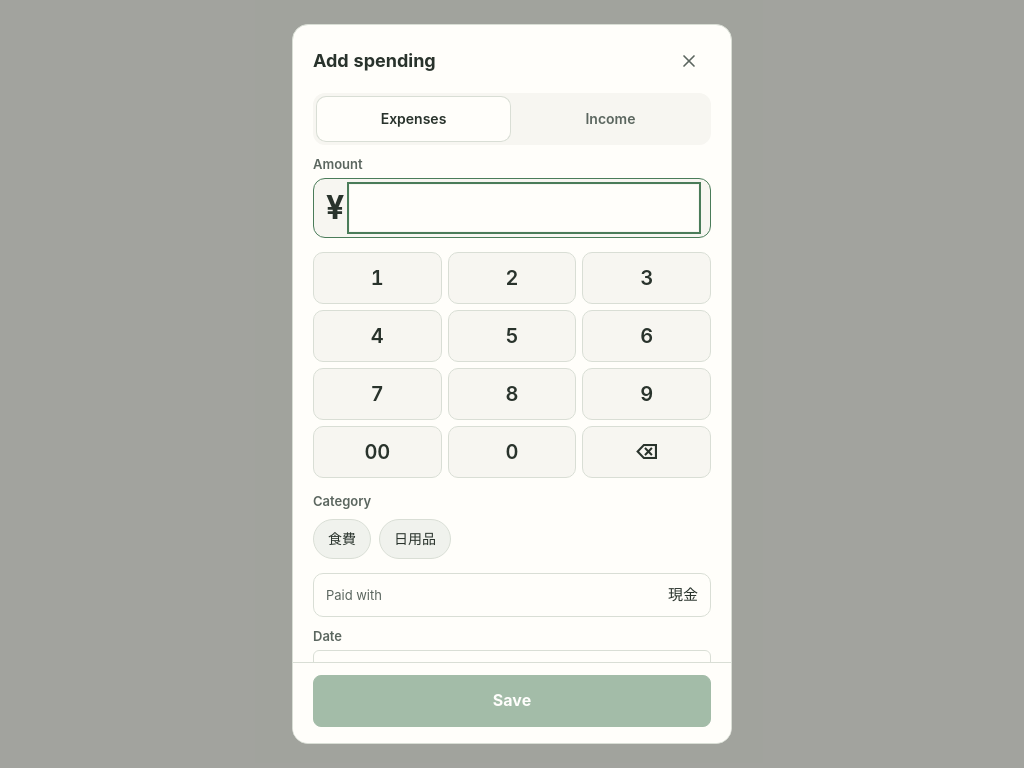
Simple screens in English: every other state starts with a capital › income sheet
Step 1. Click the button "Income" → {"x": 610, "y": 119}, box 514,97 -> 707,141
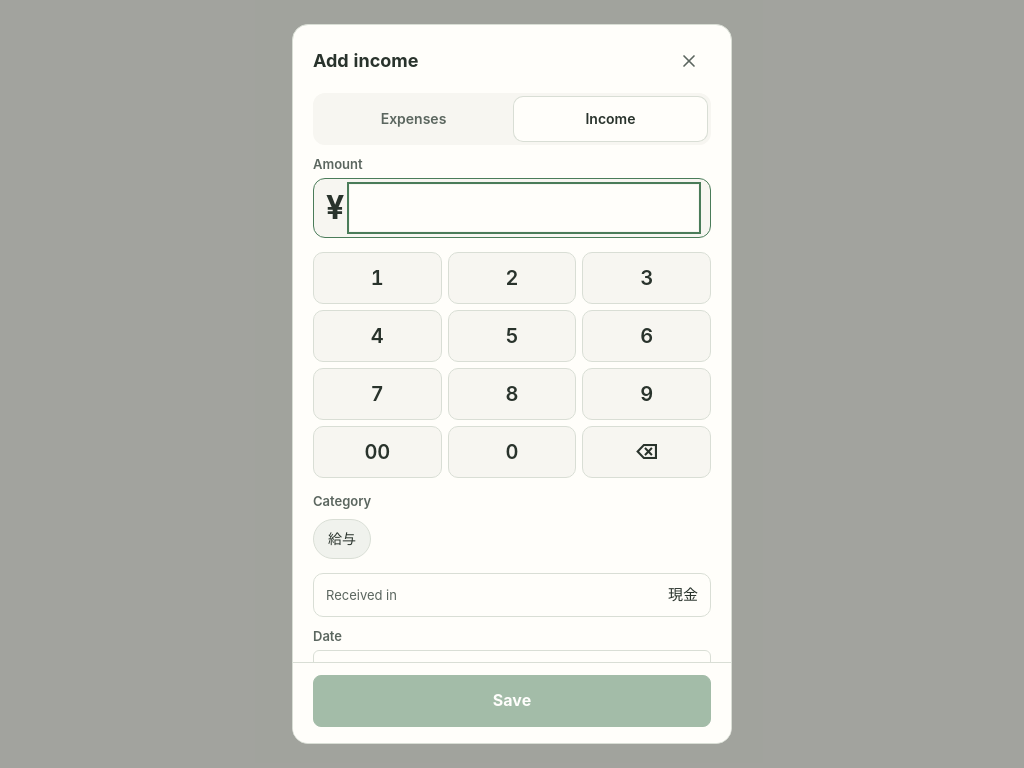
Result: the dialog "Add income" is shown at 292,24 -> 732,744
Result: the text "Received in" is shown at 326,586 -> 397,604
